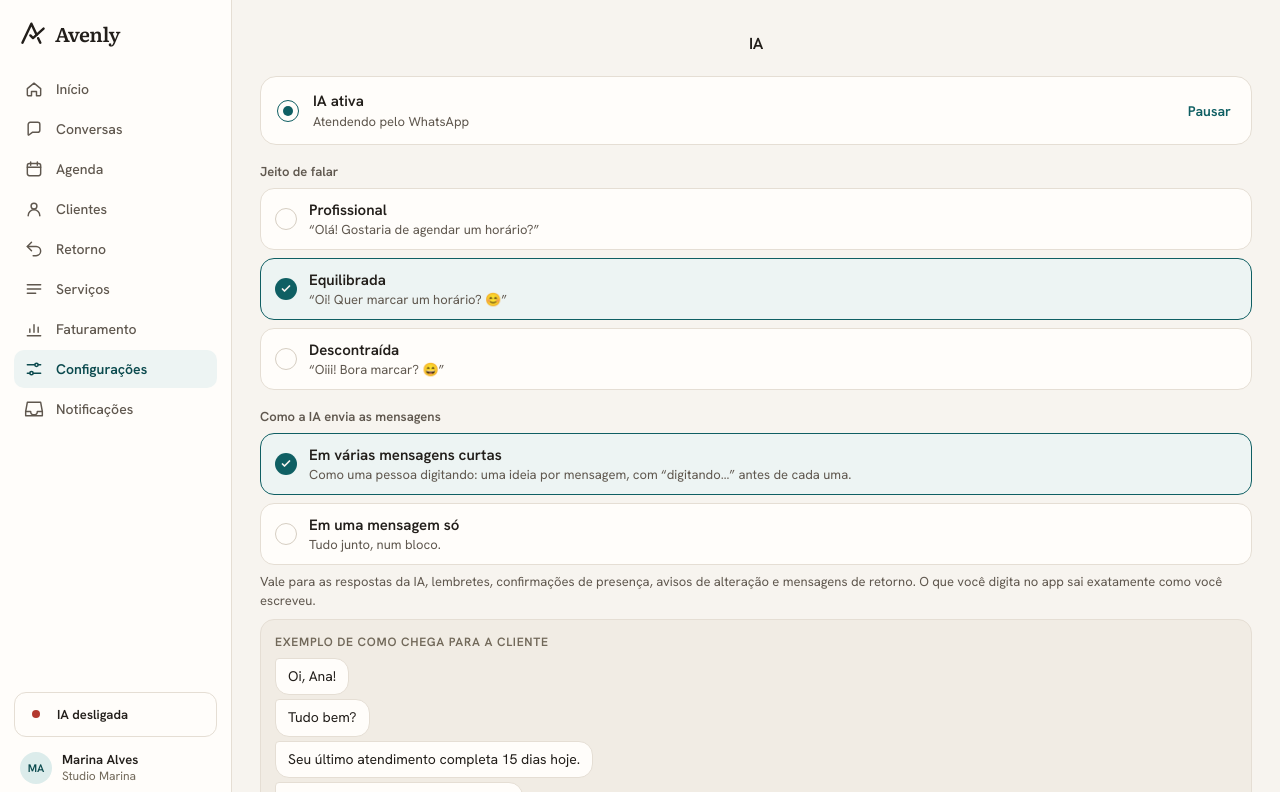
Goal104 prova 1: IA1 em /configuracoes/ia › 'Pausar' abre o diálogo e confirmar pausa pelo pedido de hoje, uma vez, com o tom lido
Click the button "Pausar" at [1209, 110], box [1184,88,1235,132]
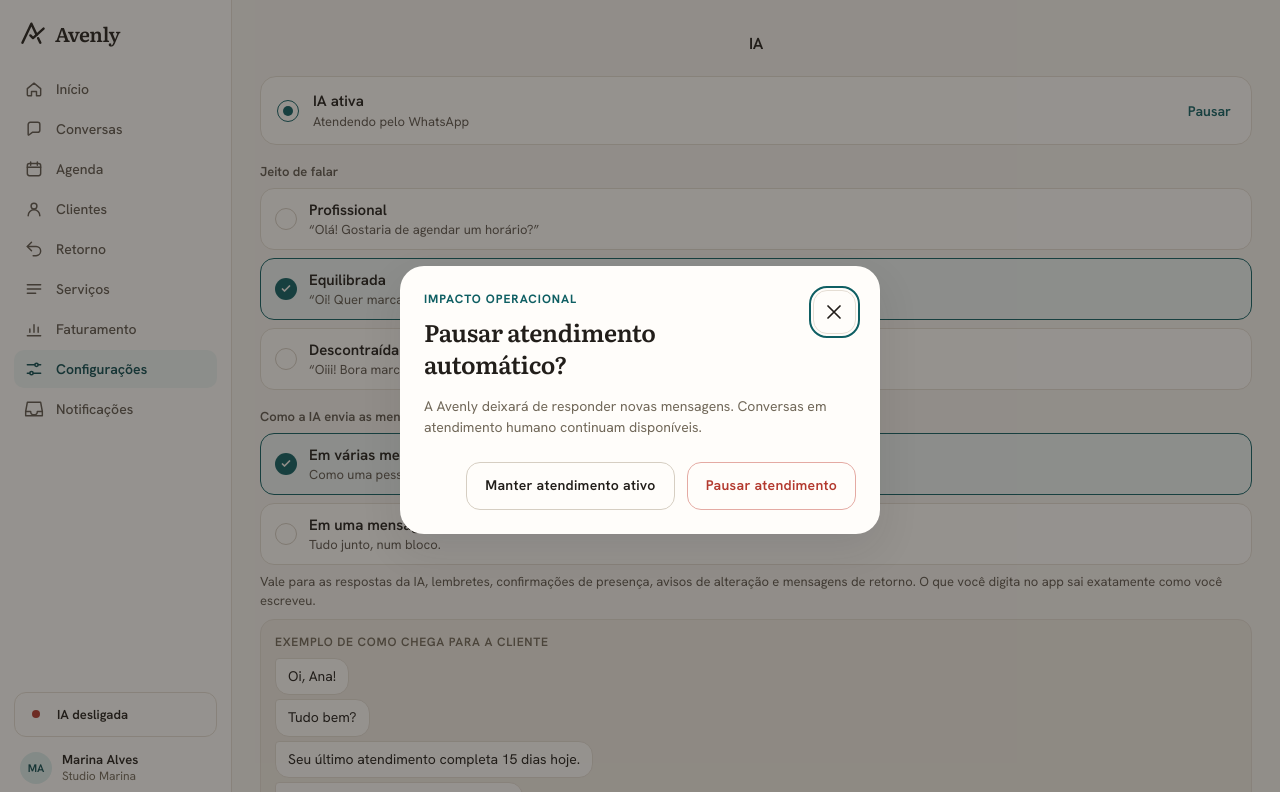
Click the button "Pausar atendimento" at [771, 486], box [687,462,856,510]
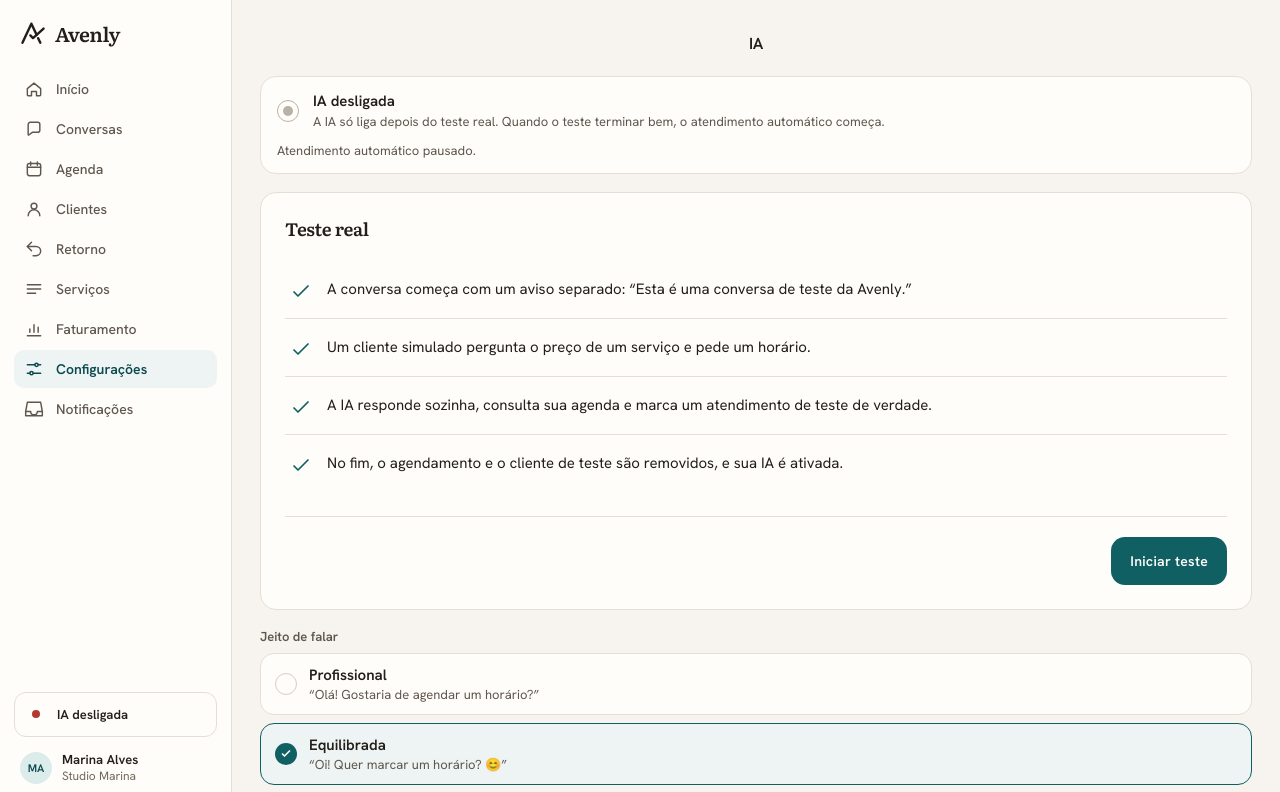
Check: the text "Atendimento automático pausado." is shown, box [277,142,476,159]
